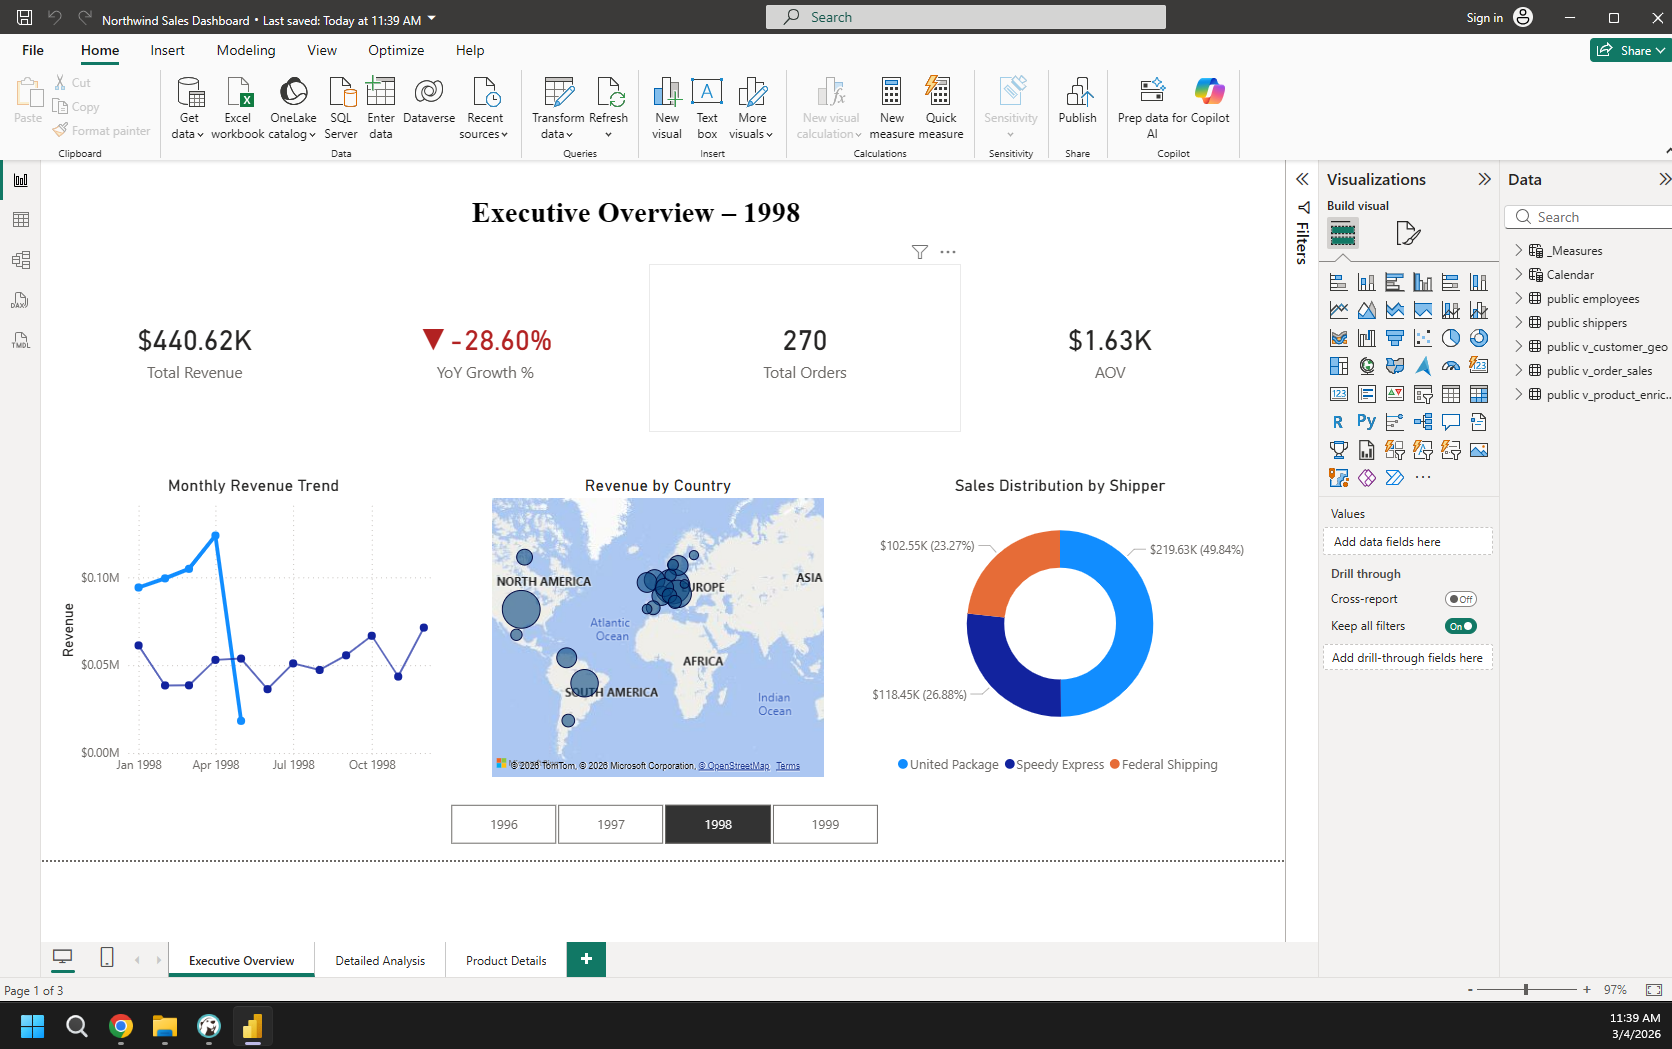

What the dashboard file says about the page in this screenshot:
{"tool":"powerbi","page":{"name":"Executive Overview","canvas":[1280,720],"ordinal":0},"visuals":[{"type":"lineChart","title":"Monthly Revenue Trend","fields":{"Y":["_Measures.Total Revenue","_Measures.Revenue Previous Year"],"Category":["Calendar.Month Start"]},"box":[14.6,323.9,408.5,316.1],"z":0},{"type":"card","fields":{"Values":["_Measures.Total Revenue"]},"box":[28.2,107,260.7,173.1],"z":1000},{"type":"card","fields":{"Values":["_Measures.YoY Display"]},"box":[300.5,107,313.2,173.1],"z":2000},{"type":"card","fields":{"Values":["_Measures.Total Orders"]},"box":[625.4,107,321,173.1],"z":3000},{"type":"card","fields":{"Values":["_Measures.AOV"]},"box":[958.1,107,284,173.1],"z":4000},{"type":"slicer","fields":{"Values":["Calendar.Year"]},"box":[395.8,656.4,489,53.7],"z":5000},{"type":"map","title":"Revenue by Country","fields":{"Category":["public v_customer_geo.country"],"Size":["_Measures.Total Revenue"]},"box":[458.6,323.9,352.1,316.1],"z":6000},{"type":"donutChart","title":"Sales Distribution by Shipper","fields":{"Category":["public shippers.company_name"],"Y":["_Measures.Total Revenue"]},"box":[846.2,323.9,405.6,316.1],"z":7000},{"type":"textbox","box":[437.9,37.6,404.8,32.2],"z":8000}]}

Visuals, with their boxes on the page's 1280x720 design canvas (x1, y1, x2, y2). These are canvas units, not pixel positions in the 1672x1049 screenshot, which may show the page scaled, cropped or inside an application window:
"Monthly Revenue Trend" lineChart: 15,324,423,640
card - _Measures.Total Revenue: 28,107,289,280
card - _Measures.YoY Display: 300,107,614,280
card - _Measures.Total Orders: 625,107,946,280
card - _Measures.AOV: 958,107,1242,280
slicer - Calendar.Year: 396,656,885,710
"Revenue by Country" map: 459,324,811,640
"Sales Distribution by Shipper" donutChart: 846,324,1252,640
textbox: 438,38,843,70
